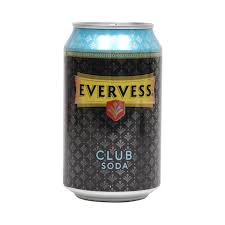can: (62, 21, 162, 203)
